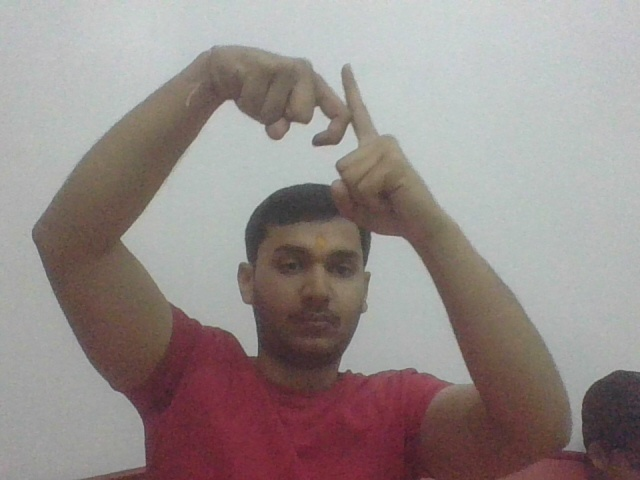K: (286, 53, 392, 165)
